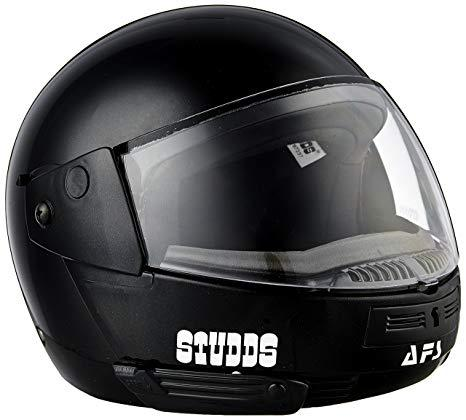helmet: (6, 5, 461, 414)
